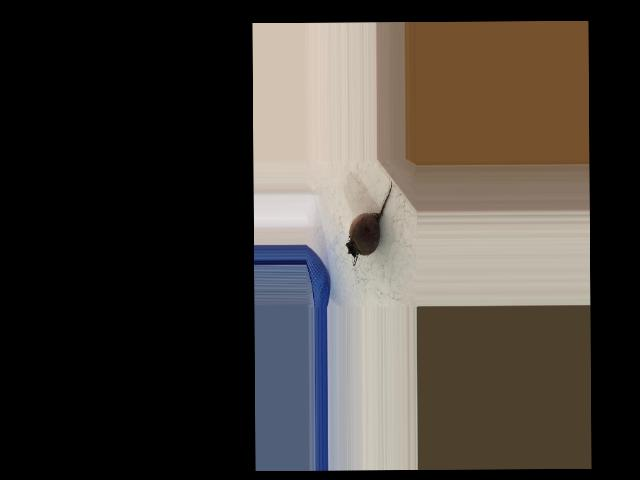beet: (345, 181, 393, 265)
